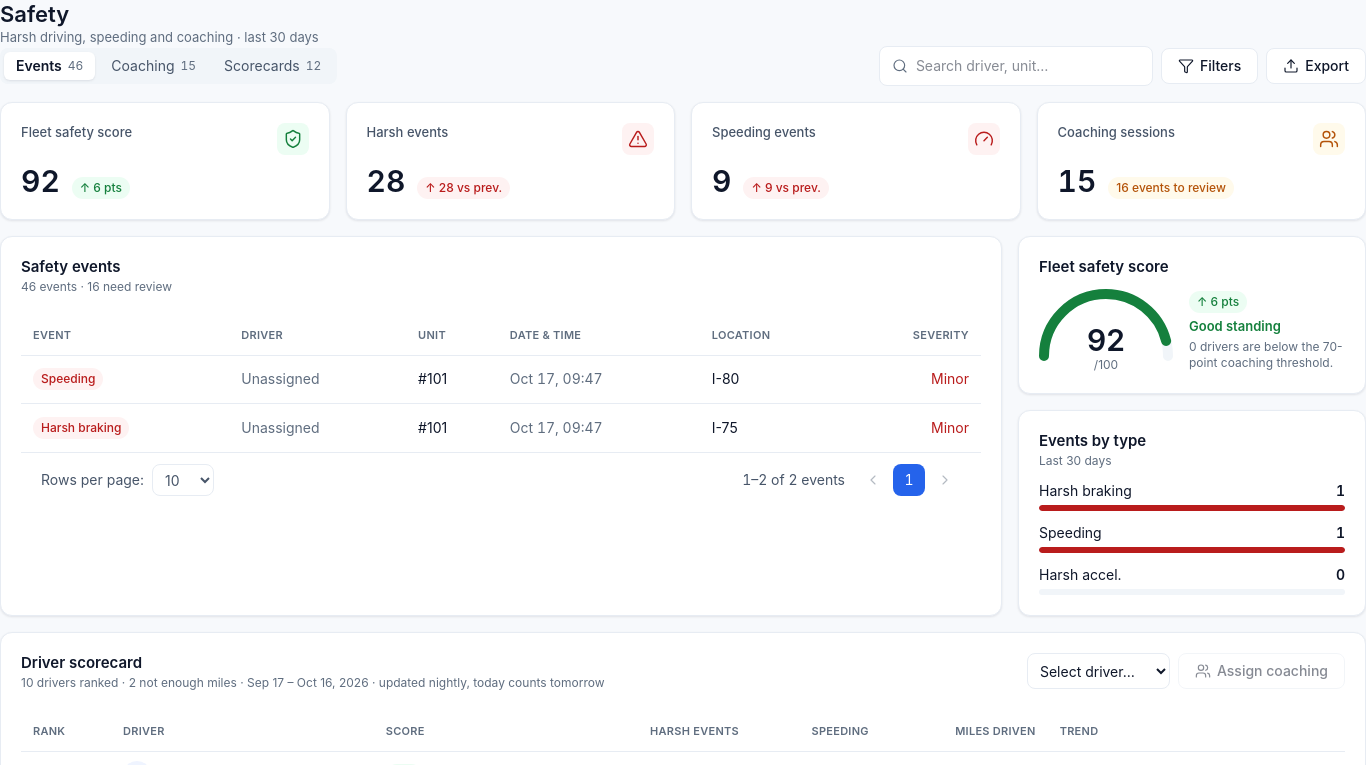
it: SafetyPage › tabs › switches to Coaching on click and lists only coached events
This screenshot has width=1366, height=765.
Click the tab "Coaching 15" at (154,66), box [99,52,208,80]
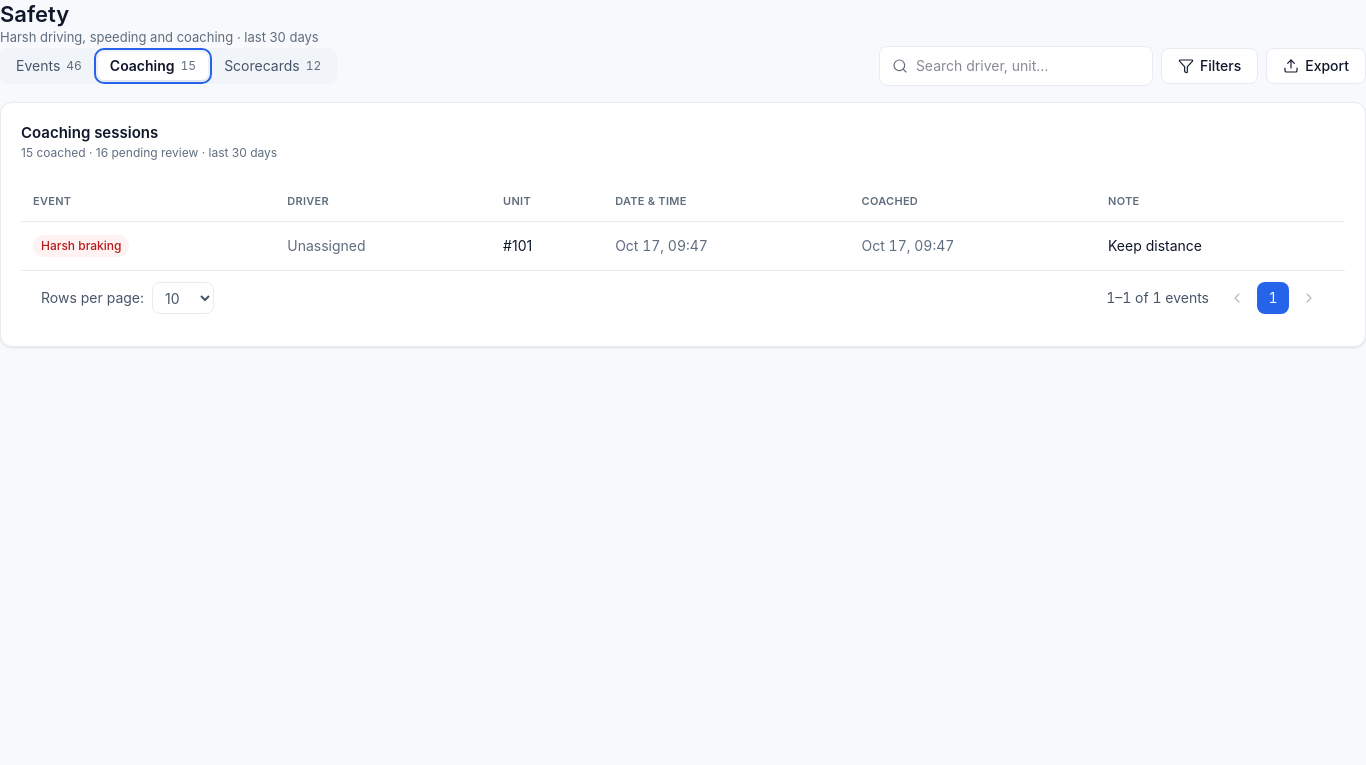
Expected: the number of rows is 2, [21,181,1345,221]; [21,222,1345,270]
Expected: the text "Keep distance" is shown, [1108,236,1202,254]
Expected: the heading "Safety events" is gone
